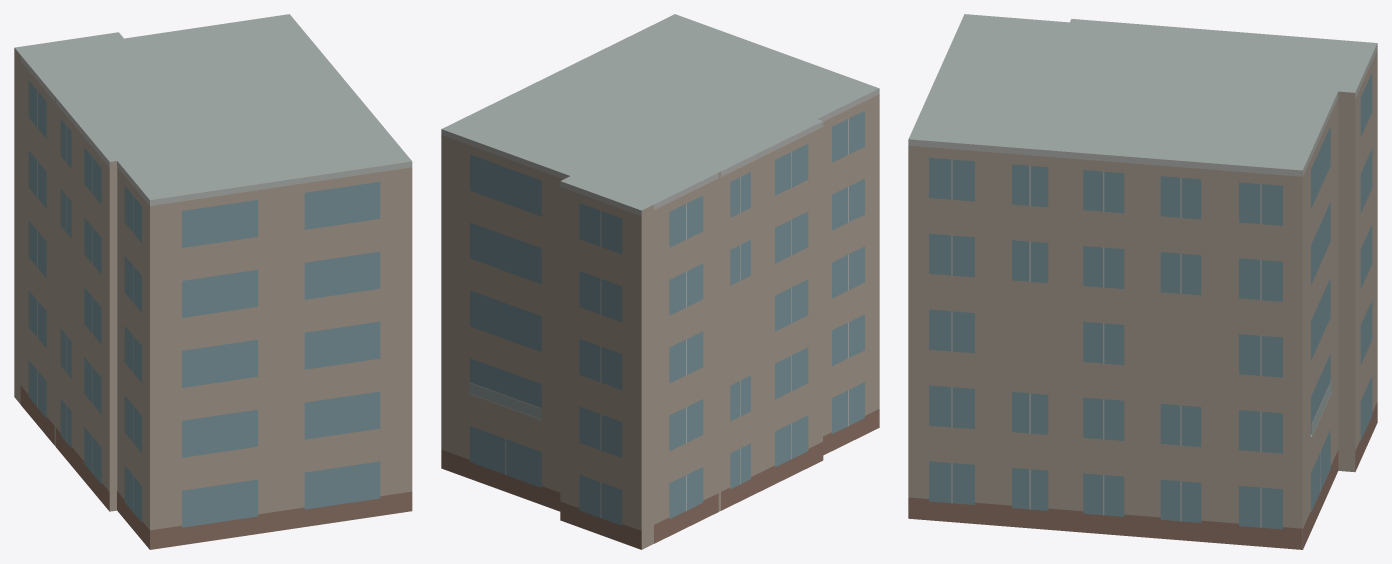
Rendered from survey-upis-32624781.glb.
3 renders of one model, left to right at view 1: azimuth 30°, elevation 25°; view 2: azimuth 150°, elevation 25°; view 3: azimuth 270°, elevation 25°, orthographic. The views are drawn at different scales.
Parts seen in each view (by area): view 1: survey-upis-32624781.tmp; view 2: survey-upis-32624781.tmp; view 3: survey-upis-32624781.tmp.
Boxes of the visible parts, <box> form: survey-upis-32624781.tmp: <box>14,14,412,549</box>; survey-upis-32624781.tmp: <box>441,14,879,549</box>; survey-upis-32624781.tmp: <box>908,14,1377,549</box>.
Bounding box in the file's own units: 12.84 × 14.5 × 16.26.
